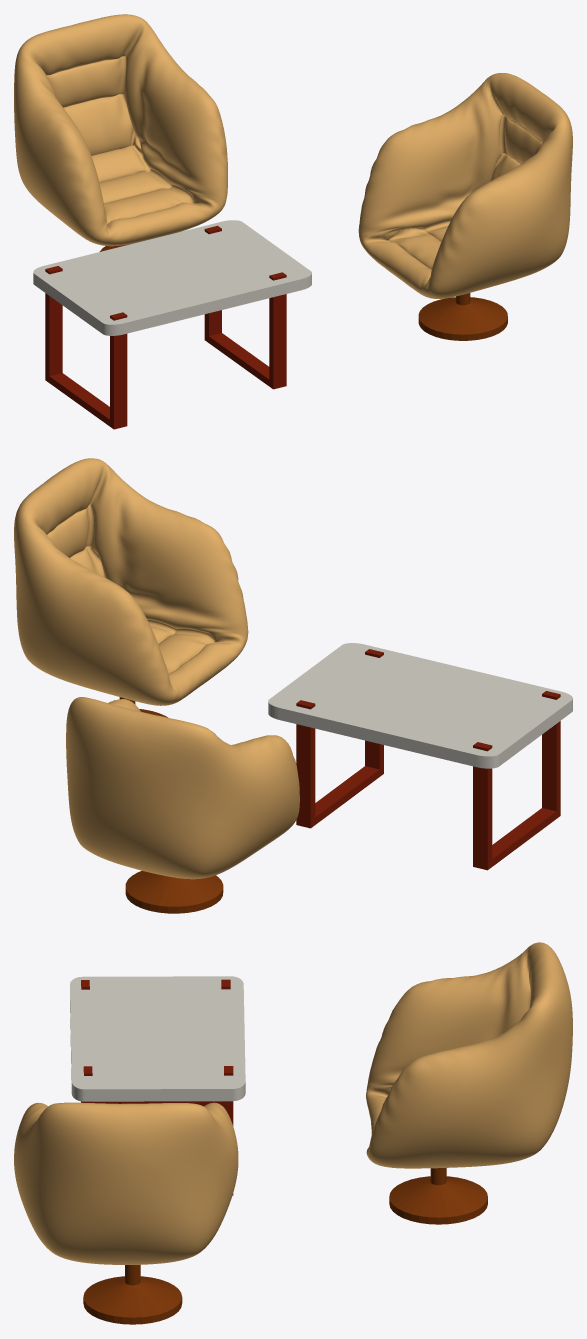
File: table.glb
3 renders of one model, top to bottom at view 1: azimuth 30°, elevation 25°; view 2: azimuth 150°, elevation 25°; view 3: azimuth 270°, elevation 25°, orthographic. The views are drawn at different scales.
Parts seen in each view (by area): view 1: Cube.002, Cube.003, Cube, Cube.001, Cube.004, Cylinder.001; view 2: Cube.003, Cube.002, Cube, Cube.001, Cube.004, Cylinder; view 3: Cube.002, Cube.003, Cube, Cylinder.001, Cylinder, Cube.001.
Boxes of the visible parts, left/top/right/bottom form: Cube.002: left=14, top=14, right=227, bottom=246; Cube.003: left=358, top=73, right=572, bottom=298; Cube: left=33, top=220, right=311, bottom=335; Cube.001: left=45, top=266, right=127, bottom=429; Cube.004: left=204, top=225, right=286, bottom=389; Cylinder.001: left=418, top=293, right=507, bottom=340; Cube.003: left=14, top=458, right=248, bottom=705; Cube.002: left=66, top=697, right=299, bottom=879; Cube: left=268, top=643, right=572, bottom=768; Cube.001: left=473, top=691, right=560, bottom=870; Cube.004: left=296, top=649, right=383, bottom=828; Cylinder: left=125, top=871, right=223, bottom=913; Cube.002: left=366, top=942, right=572, bottom=1168; Cube.003: left=14, top=1102, right=238, bottom=1264; Cube: left=70, top=976, right=245, bottom=1101; Cylinder.001: left=83, top=1264, right=182, bottom=1324; Cylinder: left=389, top=1168, right=487, bottom=1224; Cube.001: left=81, top=979, right=230, bottom=1106.
Bounding box in the file's own units: 20.62 × 8.94 × 19.08.
